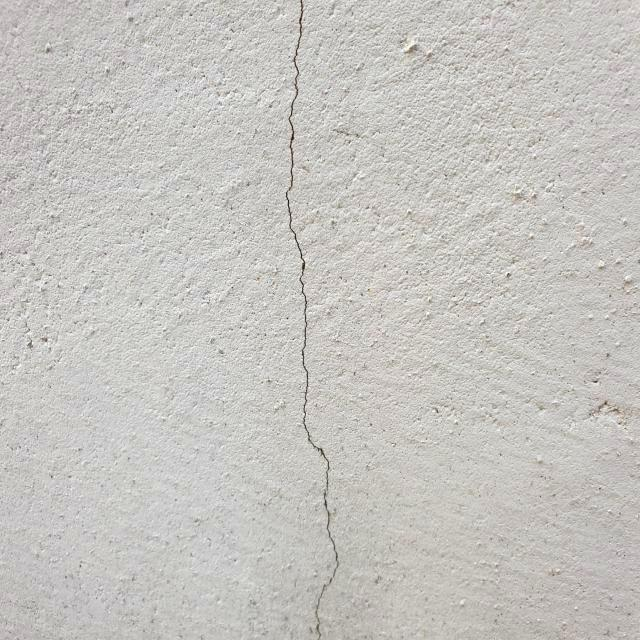SurfaceCrack: (241, 1, 384, 639)
